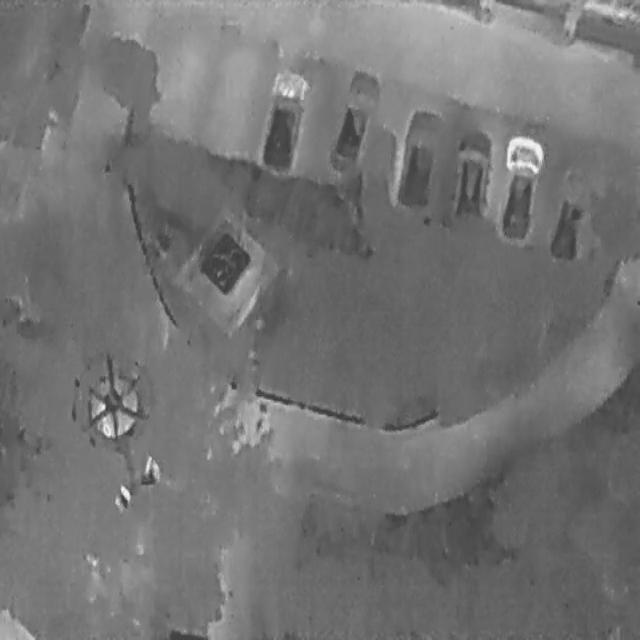Car: (323, 61, 388, 181), (251, 60, 312, 181), (390, 102, 449, 216), (493, 129, 547, 249), (544, 158, 602, 268), (446, 124, 498, 230)
